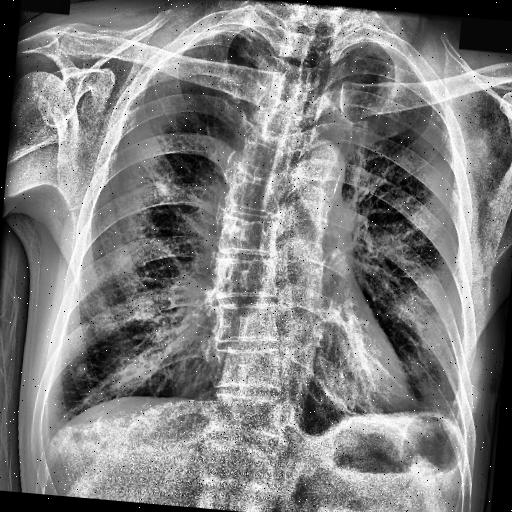0- Aortic enlargement: (276, 137, 346, 206), (284, 134, 347, 210), (292, 136, 349, 200)
10- Pleural effusion: (26, 388, 62, 462)
11- Pleural thickening: (188, 18, 278, 58), (26, 388, 62, 462), (188, 21, 270, 52), (334, 34, 404, 62)
13- Pulmonary fibrosis: (298, 362, 468, 436)
5- ILD: (60, 180, 171, 404), (398, 284, 474, 423)
8- Nodule-Mass: (75, 362, 89, 377)
9- Other lesion: (221, 14, 307, 357)
